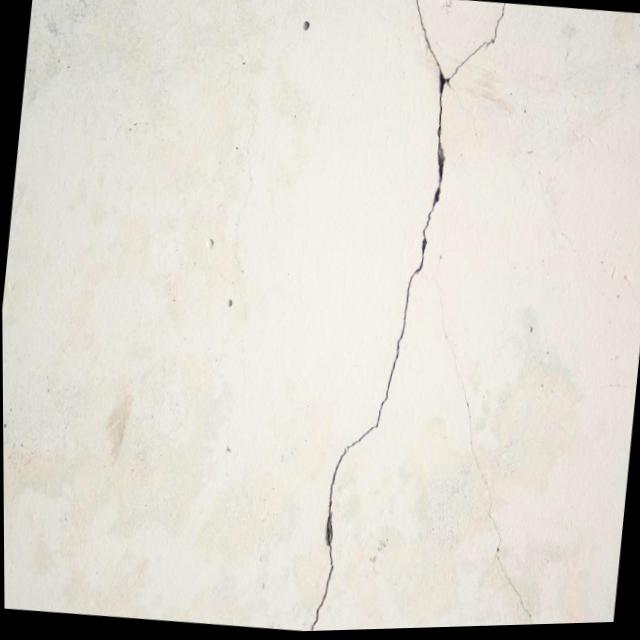Crack: (288, 407, 385, 633), (363, 223, 438, 435), (409, 58, 463, 248), (434, 0, 520, 93), (394, 0, 464, 97)
